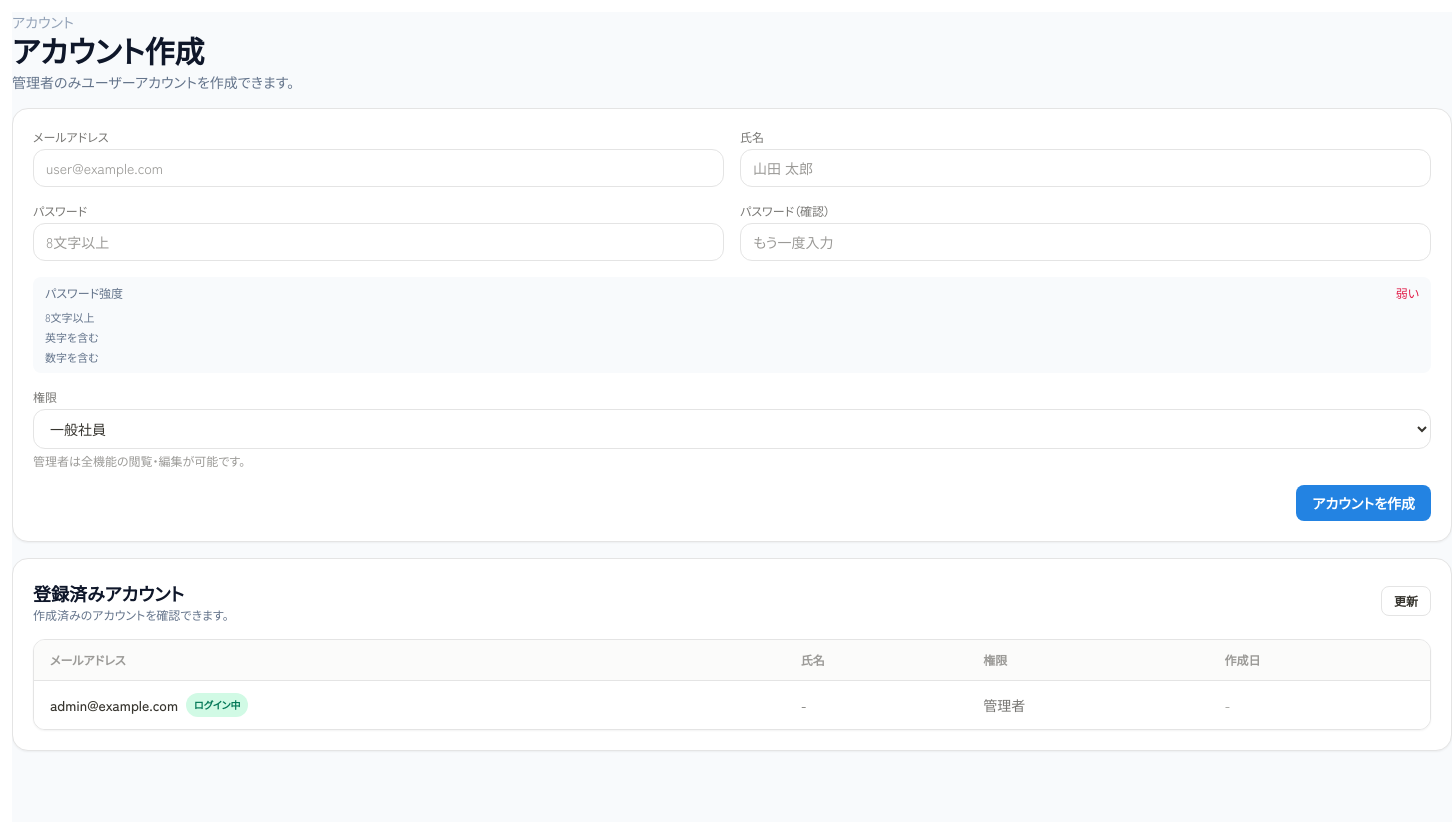
it: アカウント作成ページ › 確認用パスワードが一致しない場合はエラーを表示する
This screenshot has width=1452, height=822.
In the field labelled "メールアドレス": coordinates (378, 168) [33,149,724,187], type "new-user@example.com"
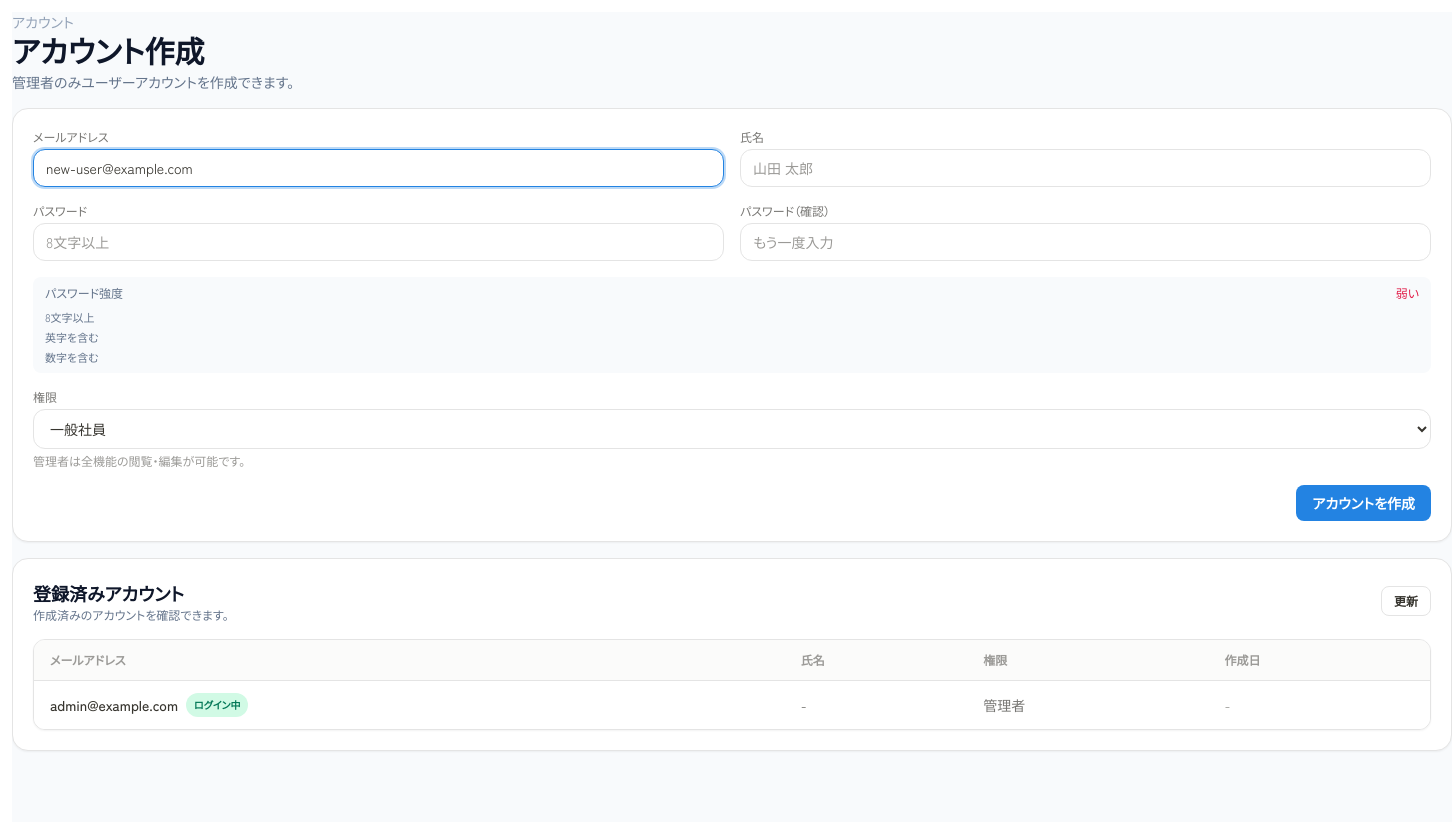
In the field labelled "氏名": coordinates (1086, 168) [740,149,1431,187], type "新規 ユーザー"
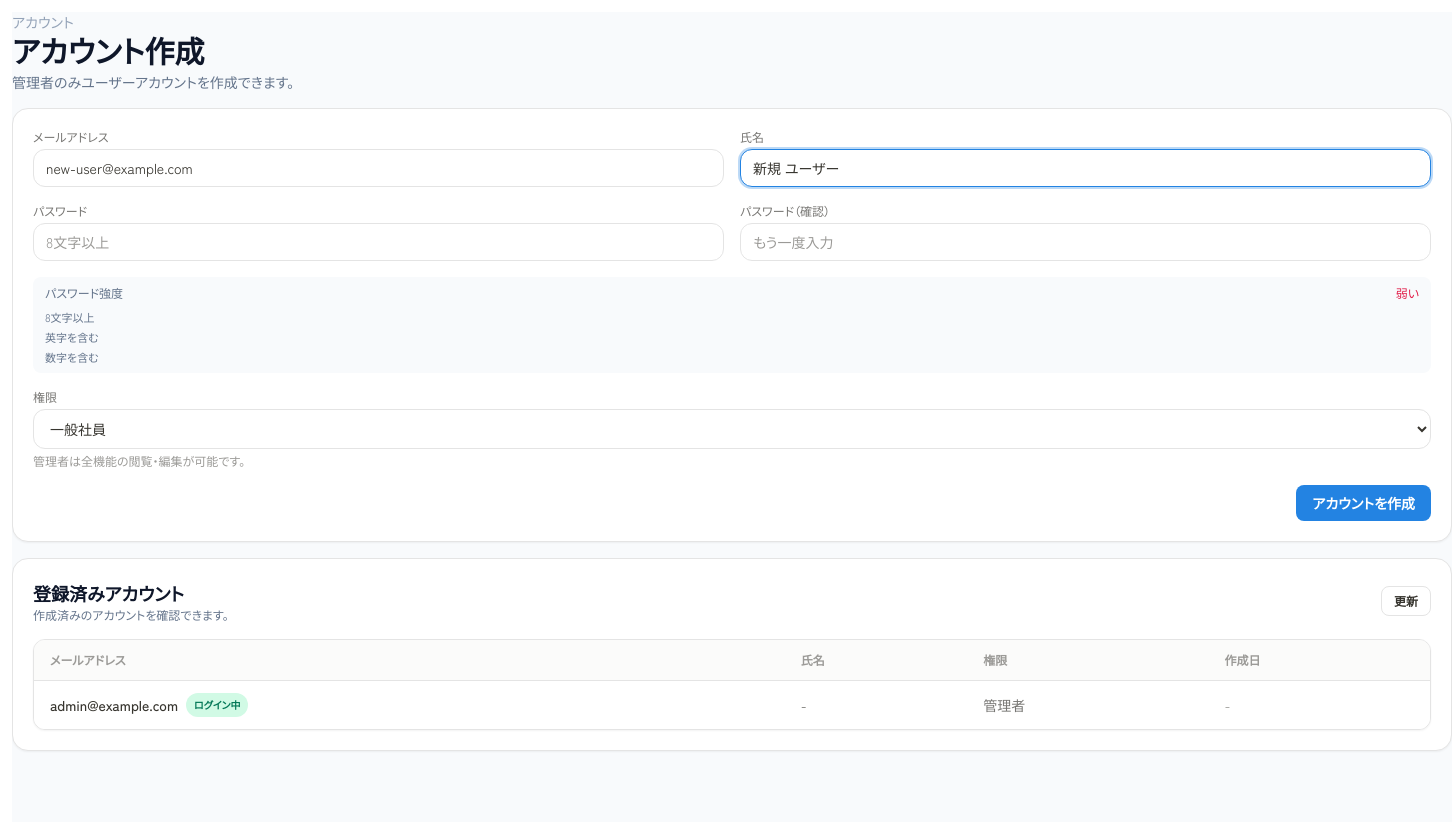
In the password field labelled "パスワード": coordinates (378, 242) [33,223,724,261], type "Password123"
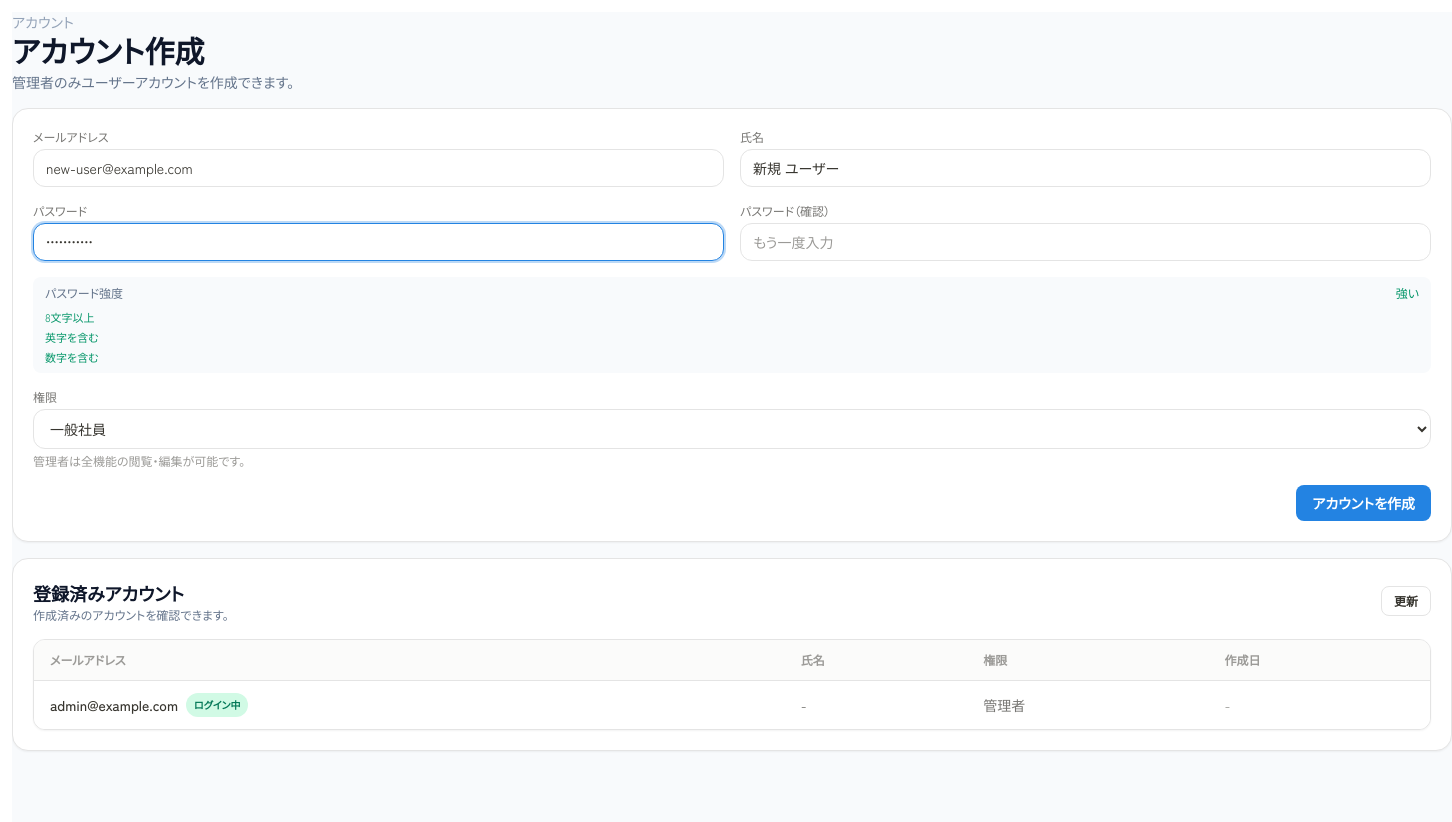
In the password field labelled "パスワード（確認）": coordinates (1086, 242) [740,223,1431,261], type "Password999"
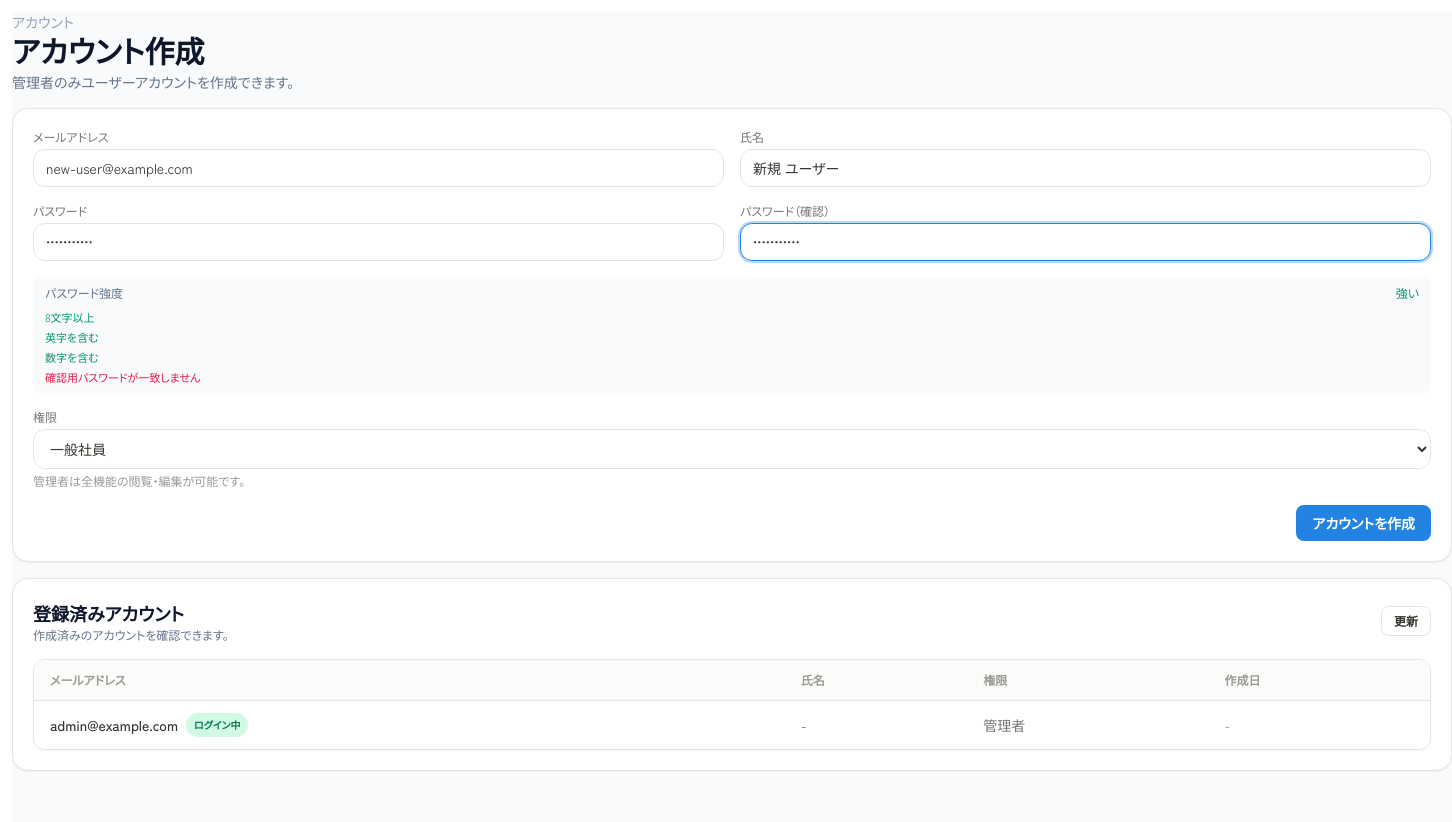
Click the button "アカウントを作成": coordinates (1364, 523) [1296,505,1431,541]
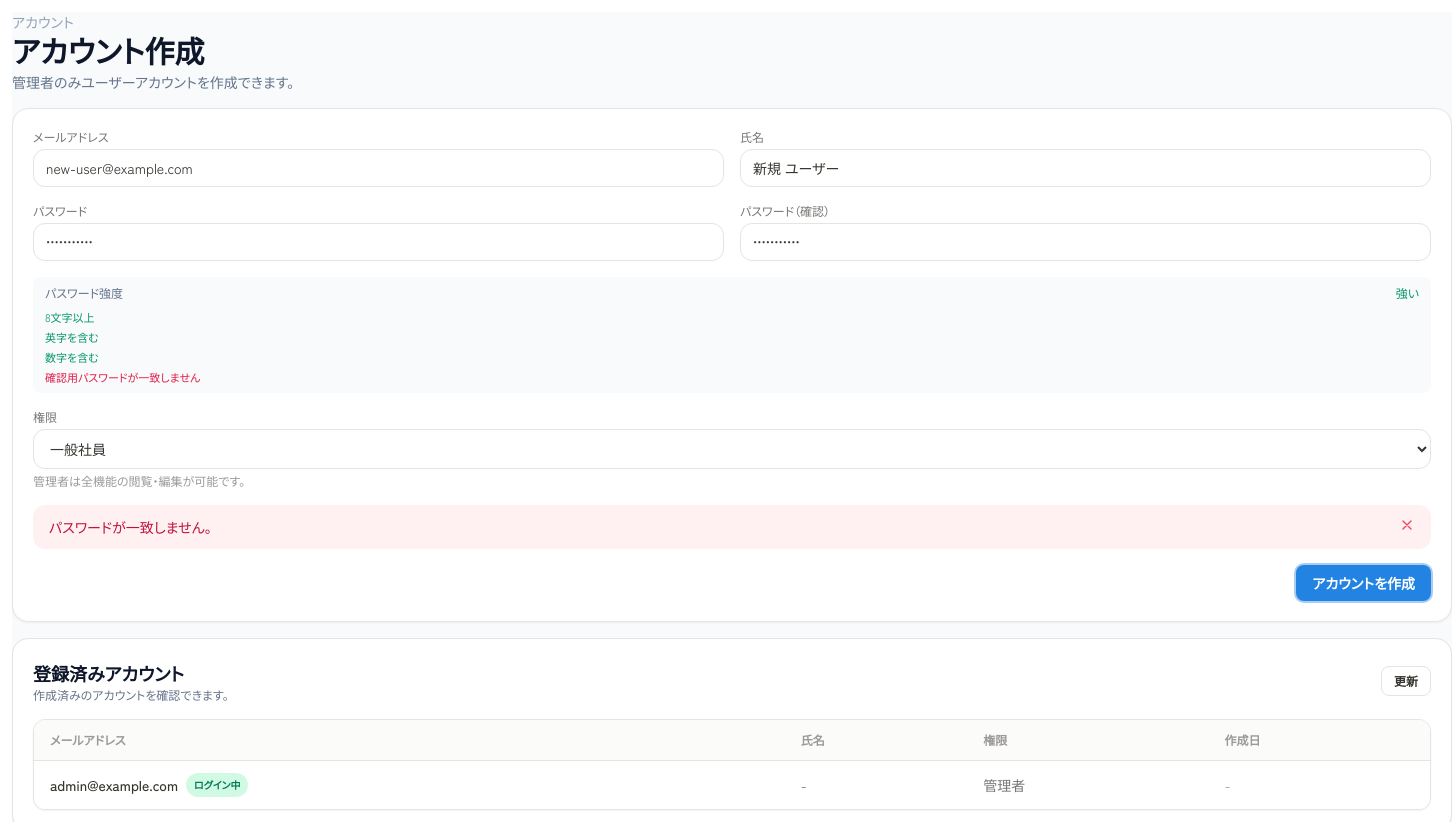
Expected: the message reads "パスワードが一致しません。", [49,517,212,537]
